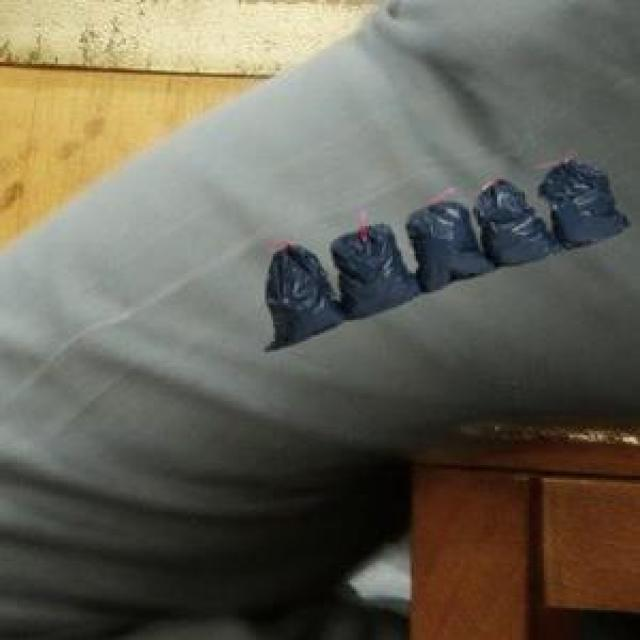Vinyl: (266, 160, 628, 349)
